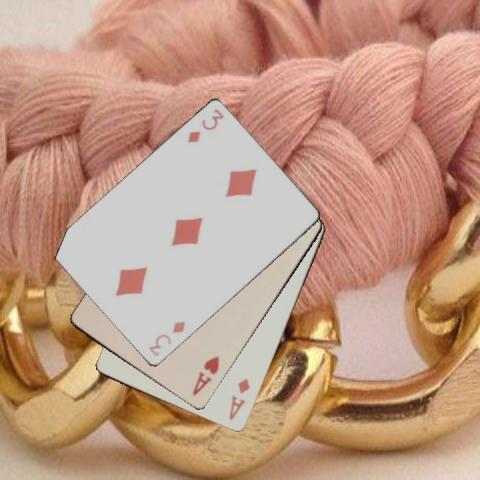3d: (146, 319, 187, 358), (185, 106, 225, 145)
Ad: (226, 375, 251, 422)
Ah: (189, 353, 221, 398)
